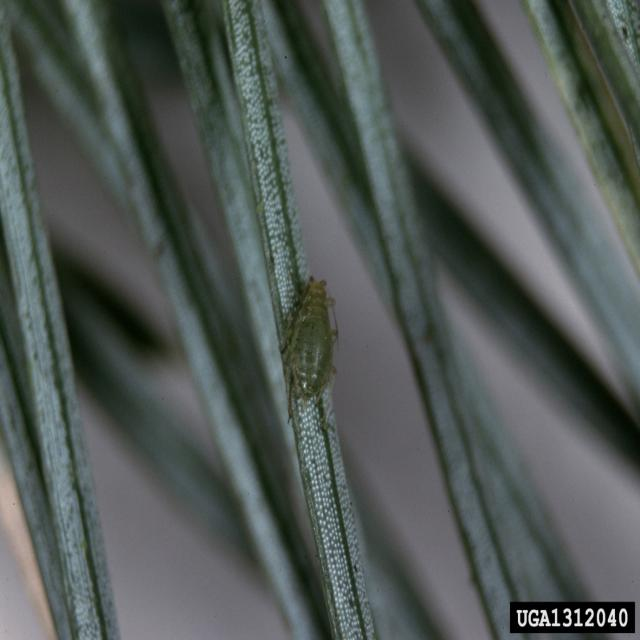Aphid-Grown-: (270, 271, 344, 430)
